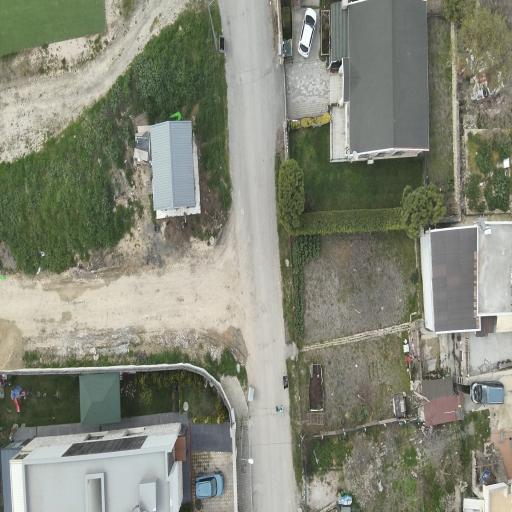car: (298, 8, 316, 57), (471, 382, 504, 404), (196, 473, 223, 498)
